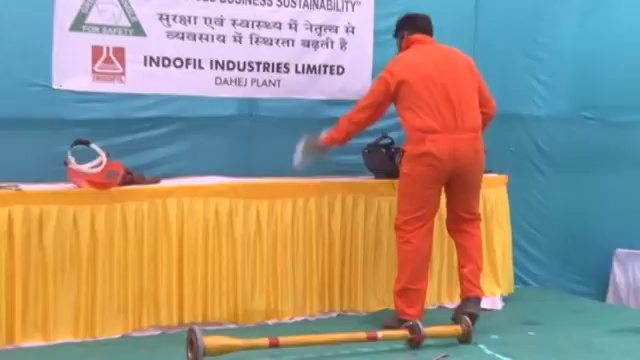helmet_off: (393, 13, 429, 51)
person: (317, 9, 496, 335)
